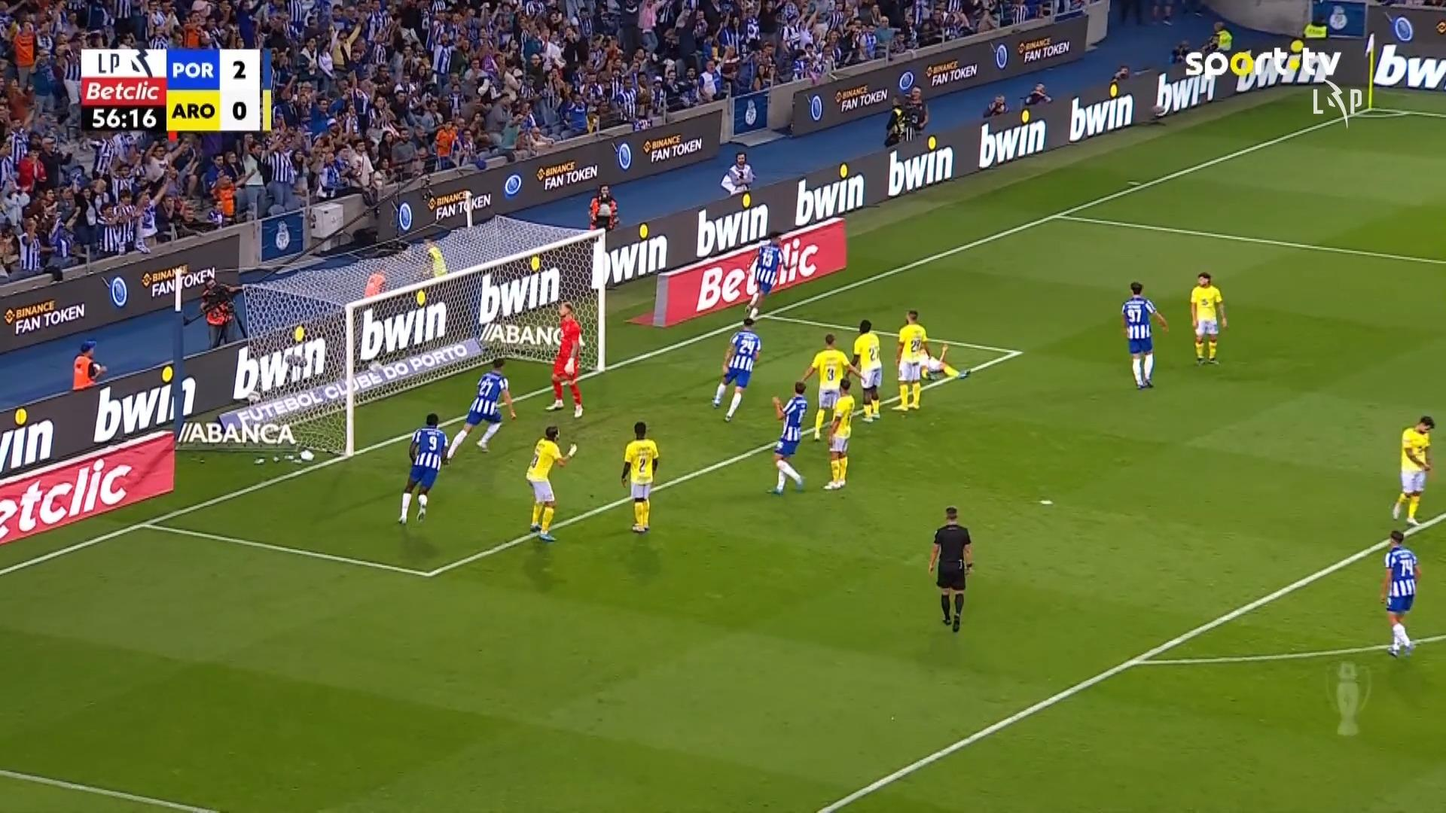goalkeeper: (544, 301, 585, 419)
player: (444, 357, 517, 464), (524, 424, 577, 541), (396, 412, 450, 524), (798, 332, 853, 441), (711, 317, 761, 422), (1120, 281, 1168, 389), (1380, 529, 1420, 657), (1391, 415, 1434, 526), (767, 381, 808, 495), (620, 421, 659, 532), (742, 230, 787, 321), (892, 309, 929, 411), (1189, 271, 1228, 365), (822, 378, 855, 489), (849, 319, 883, 422), (919, 345, 969, 382)
referee: (927, 505, 974, 632)
